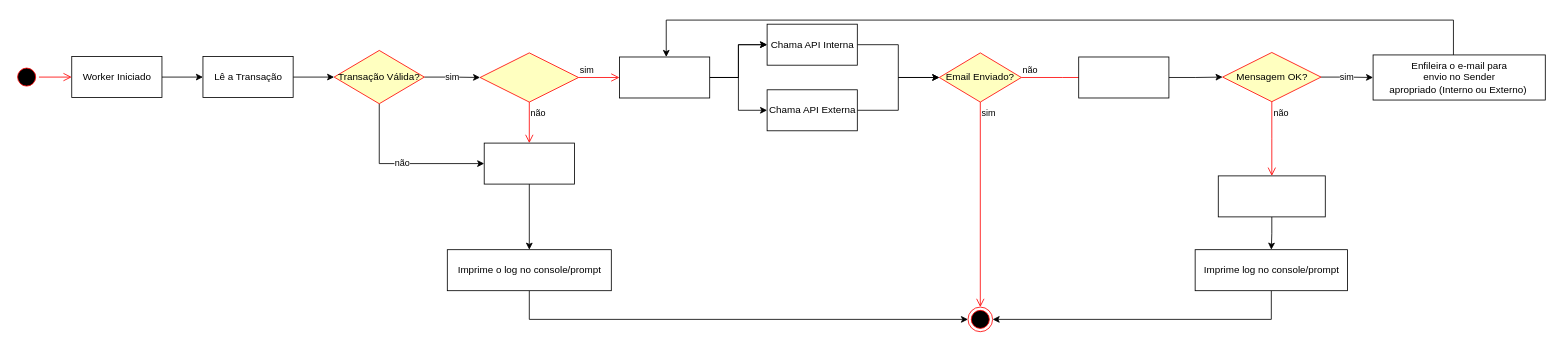
Some shapes in this 1560 by 346 pixel diagram are drawn without their labels. Here are the shapes that lost their labels. From the top down, the centre of each, then its label:
(529,77): Registro Valido?
(664,77): Envia Email
(1123,77): Verifica o Sender
(528,163): Gera Log
(1271,196): Gerar Log Mensagem
